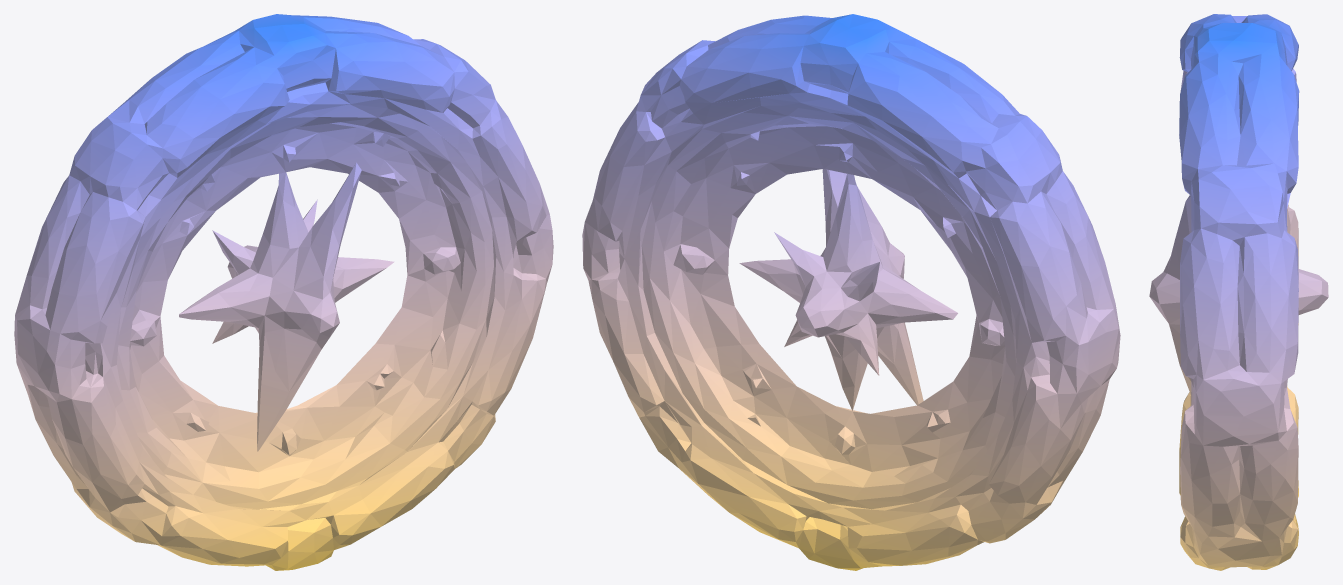
The model's file is 88_cyb_laser_gradient_fish_scales_2930_2026_10_03_c6323e.glb.
3 views of the same model, side by side, from view 1: azimuth 30°, elevation 25°; view 2: azimuth 150°, elevation 25°; view 3: azimuth 270°, elevation 25° (orthographic). The views are drawn at different scales.
Visible parts, largest first — view 1: geometry_0; view 2: geometry_0; view 3: geometry_0.
Boxes of the visible parts, left/top/right/bottom form: geometry_0: left=14, top=14, right=553, bottom=570; geometry_0: left=582, top=14, right=1120, bottom=570; geometry_0: left=1149, top=14, right=1328, bottom=570.
Bounding box in the file's own units: 1 × 1 × 0.3132.
